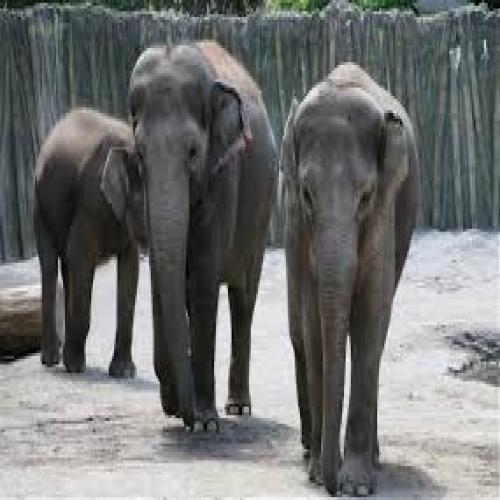asian_elephant-endangered: (281, 56, 421, 500), (129, 44, 278, 434), (33, 111, 148, 377)
